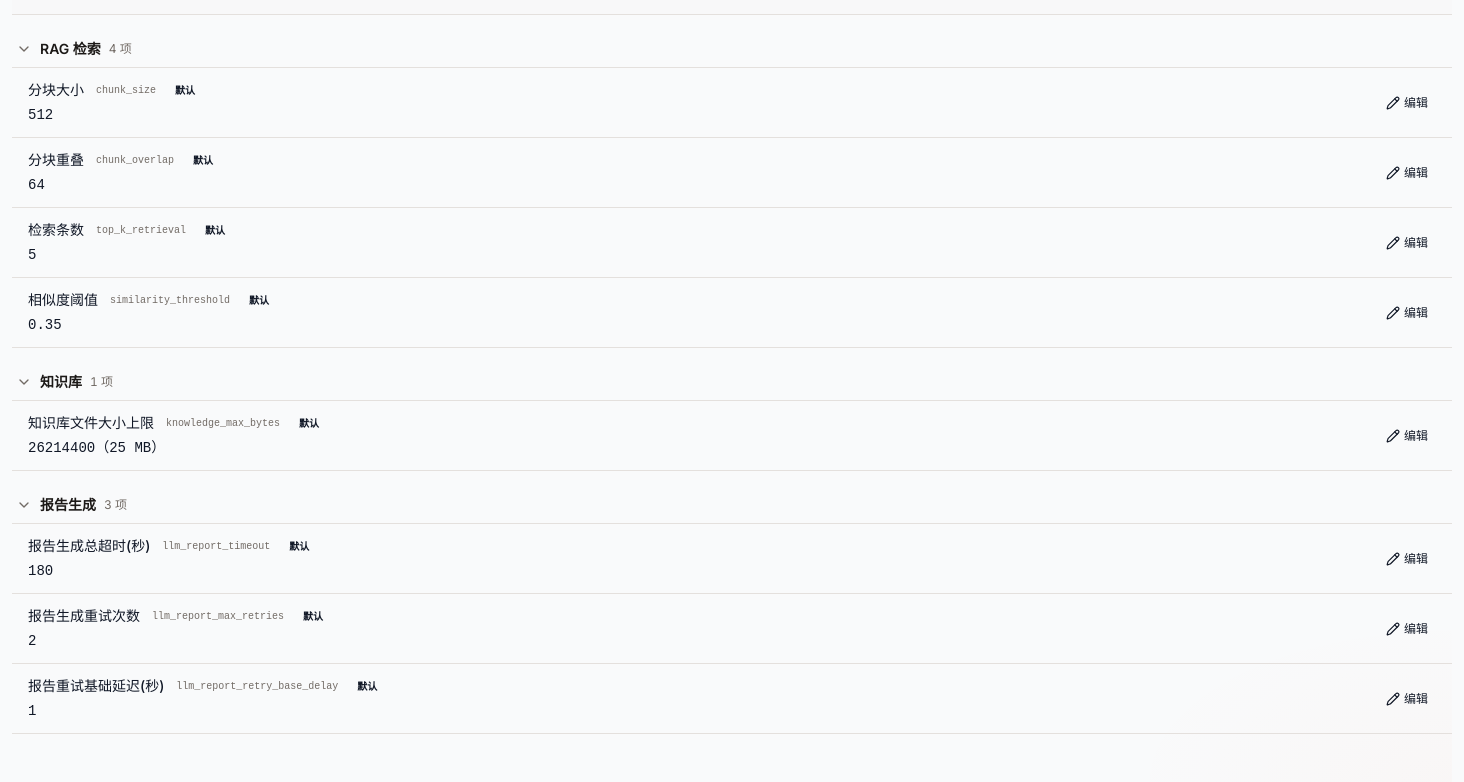
Scenario: AdminConfigPage › collapses a group and hides its config rows
(page scrolled)
Expected: the text "报告生成总超时(秒)" is shown, x1=28 y1=536 x2=150 y2=556
Click the button "报告生成 3 项".
click(68, 504)  # box x1=12 y1=487 x2=1452 y2=523
(page scrolled)
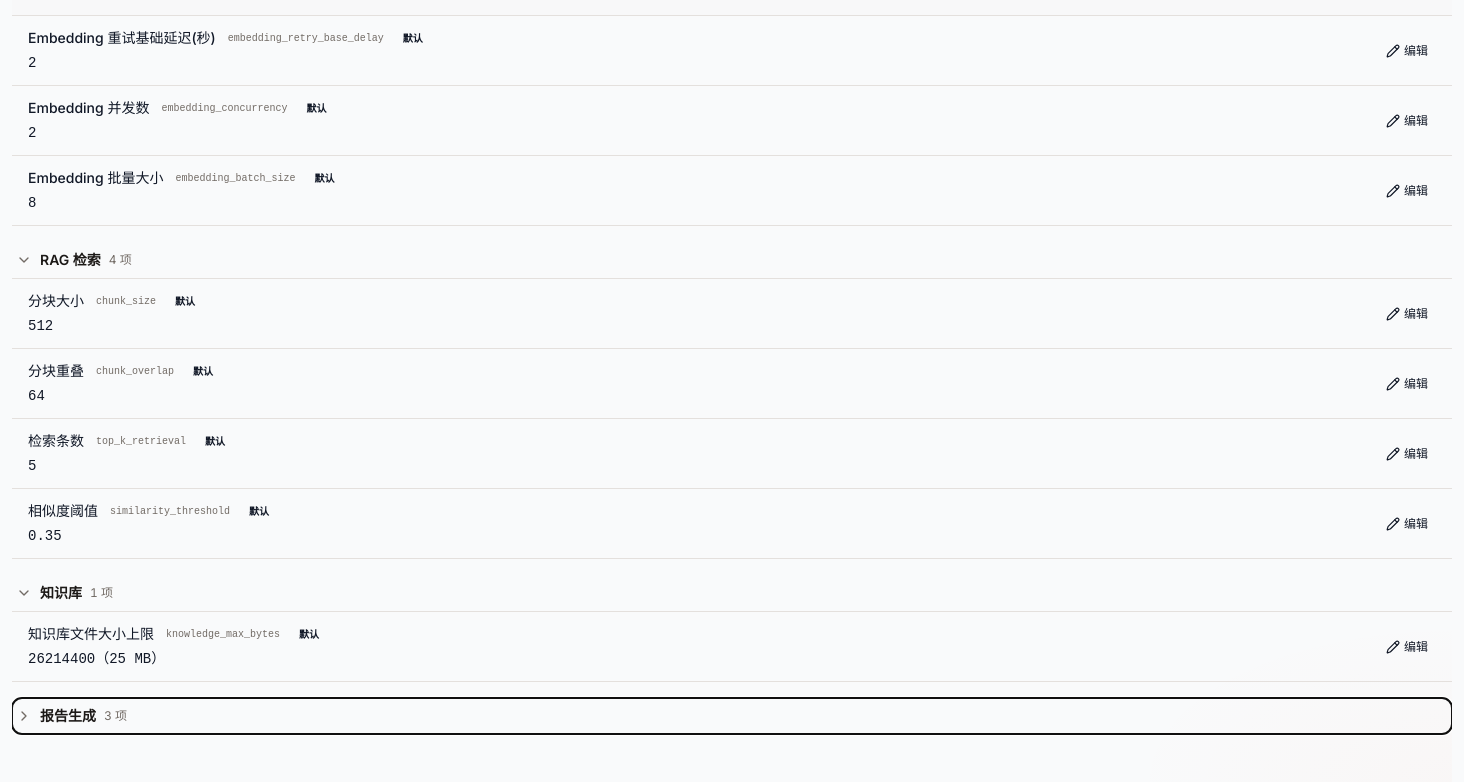
Now the text "报告生成总超时(秒)" is gone
